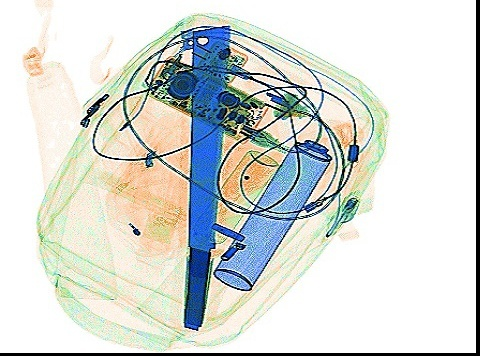pressure: (212, 128, 333, 291), (184, 148, 278, 248)
